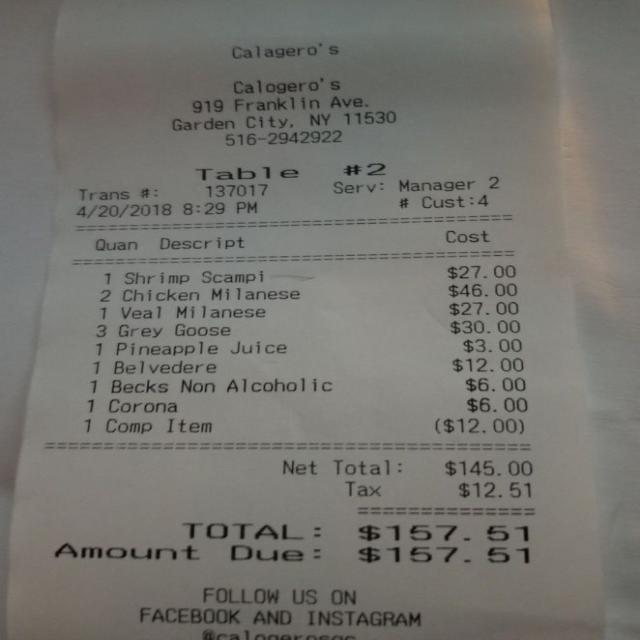TotalPrice: (164, 514, 551, 551)
